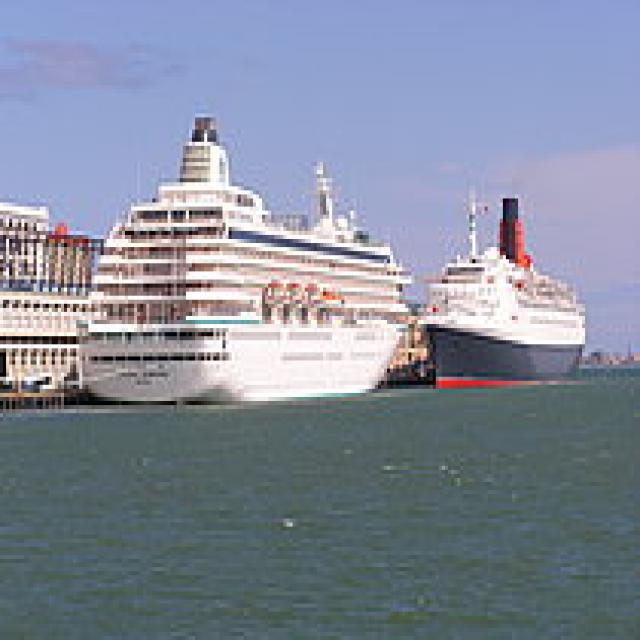Ship: (65, 107, 422, 419), (419, 175, 599, 402)
